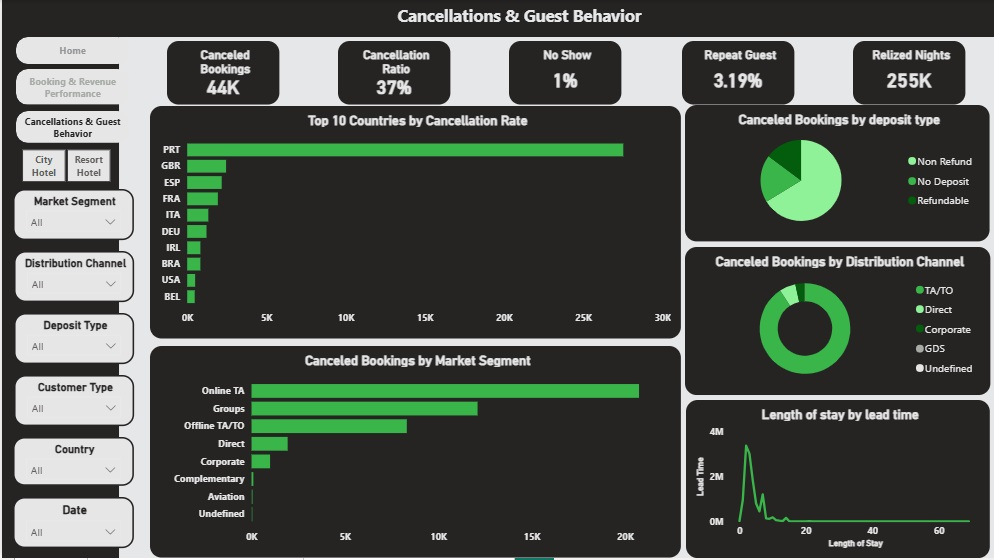

What the dashboard file says about the page in this screenshot:
{"tool":"powerbi","page":{"name":"Cancellations & Guest Behavior","canvas":[1280,720],"ordinal":2},"visuals":[{"type":"shape","box":[0,0,1280,47.7],"z":0},{"type":"shape","box":[0,0,151.1,720],"z":1000},{"type":"card","title":"Canceled Bookings","fields":{"Values":["Dax_Measures.Canceled Bookings"]},"box":[212.6,52.4,144.6,82.2],"z":2000},{"type":"slicer","title":"Date","fields":{"Values":["Date.Year","Date.Month No"]},"box":[14.6,641.4,155.5,66.1],"z":3000},{"type":"textbox","box":[425.8,0,483.9,47.7],"z":4000},{"type":"actionButton","box":[18.6,47.7,146.6,34.9],"z":5000},{"type":"actionButton","box":[18.6,89.1,146.6,46.3],"z":6000},{"type":"actionButton","box":[18.6,143.1,146.6,41.1],"z":7000},{"type":"slicer","title":"Market Segment","fields":{"Values":["hotel_bookings.market_segment"]},"box":[14.6,243.6,155.5,66.1],"z":8000},{"type":"slicer","title":"Distribution Channel","fields":{"Values":["hotel_bookings.distribution_channel"]},"box":[15,323.9,154.8,65.8],"z":9000},{"type":"slicer","title":"Deposit Type","fields":{"Values":["hotel_bookings.deposit_type"]},"box":[15,403.9,154.8,65.8],"z":10000},{"type":"slicer","title":"Customer Type","fields":{"Values":["hotel_bookings.customer_type"]},"box":[15,483.9,154.8,65.8],"z":11000},{"type":"slicer","title":"Country","fields":{"Values":["hotel_bookings.country"]},"box":[14.6,563.9,155.5,63.3],"z":12000},{"type":"slicer","title":"Hotel","fields":{"Values":["hotel_bookings.hotel"]},"box":[0,186,164,50],"z":13000},{"type":"card","title":"Cancellation Ratio","fields":{"Values":["Dax_Measures.Cancellation Rate %"]},"box":[433.7,52.4,144.6,82.2],"z":14000},{"type":"card","title":"No Show ","fields":{"Values":["Dax_Measures.No-Show %"]},"box":[654.8,52.4,144.6,82.2],"z":15000},{"type":"card","title":"Repeat Guest","fields":{"Values":["Dax_Measures.Repeat Guest %"]},"box":[877.3,52.4,144.6,82.2],"z":16000},{"type":"card","title":"Relized Nights","fields":{"Values":["Dax_Measures.Realized Nights"]},"box":[1098.4,52.4,144.6,82.2],"z":17000},{"type":"barChart","title":"Top 10 Countries by Cancellation Rate ","fields":{"Category":["hotel_bookings.country"],"Y":["Dax_Measures.Canceled Bookings"]},"box":[191.3,136.3,685.4,300],"z":18000},{"type":"pieChart","title":"Canceled Bookings by deposit type","fields":{"Category":["hotel_bookings.deposit_type"],"Y":["Dax_Measures.Cancellation Rate %"]},"box":[881.6,136.1,392.6,175.7],"z":19000},{"type":"donutChart","title":"Canceled Bookings by Distribution Channel","fields":{"Category":["hotel_bookings.distribution_channel"],"Y":["Dax_Measures.Canceled Bookings"]},"box":[880.9,319.3,393.6,191.3],"z":20000},{"type":"barChart","title":"Canceled Bookings by Market Segment","fields":{"Category":["hotel_bookings.market_segment"],"Y":["Dax_Measures.Canceled Bookings"]},"box":[191.3,445.9,685.4,272.5],"z":21000},{"type":"lineChart","title":"Length of stay by lead time","fields":{"Y":["Sum(hotel_bookings.lead_time)"],"Category":["hotel_bookings.Length of Stay"]},"box":[882.2,516.1,392.3,203.7],"z":22000}]}

Visuals, with their boxes in screenshot pixels (x1, y1, x2, y2), scaled from the page's 1280x720 canvas onto the 994x560 screenshot:
shape: 0/0/993/37
shape: 0/0/117/559
"Canceled Bookings" card: 165/41/277/105
"Date" slicer: 11/499/132/550
textbox: 331/0/706/37
actionButton: 14/37/128/64
actionButton: 14/69/128/105
actionButton: 14/111/128/143
"Market Segment" slicer: 11/189/132/241
"Distribution Channel" slicer: 12/252/132/303
"Deposit Type" slicer: 12/314/132/365
"Customer Type" slicer: 12/376/132/428
"Country" slicer: 11/439/132/488
"Hotel" slicer: 0/145/127/184
"Cancellation Ratio" card: 337/41/449/105
"No Show " card: 508/41/621/105
"Repeat Guest" card: 681/41/794/105
"Relized Nights" card: 853/41/965/105
"Top 10 Countries by Cancellation Rate " barChart: 149/106/681/339
"Canceled Bookings by deposit type" pieChart: 685/106/989/243
"Canceled Bookings by Distribution Channel" donutChart: 684/248/990/397
"Canceled Bookings by Market Segment" barChart: 149/347/681/559
"Length of stay by lead time" lineChart: 685/401/990/559
